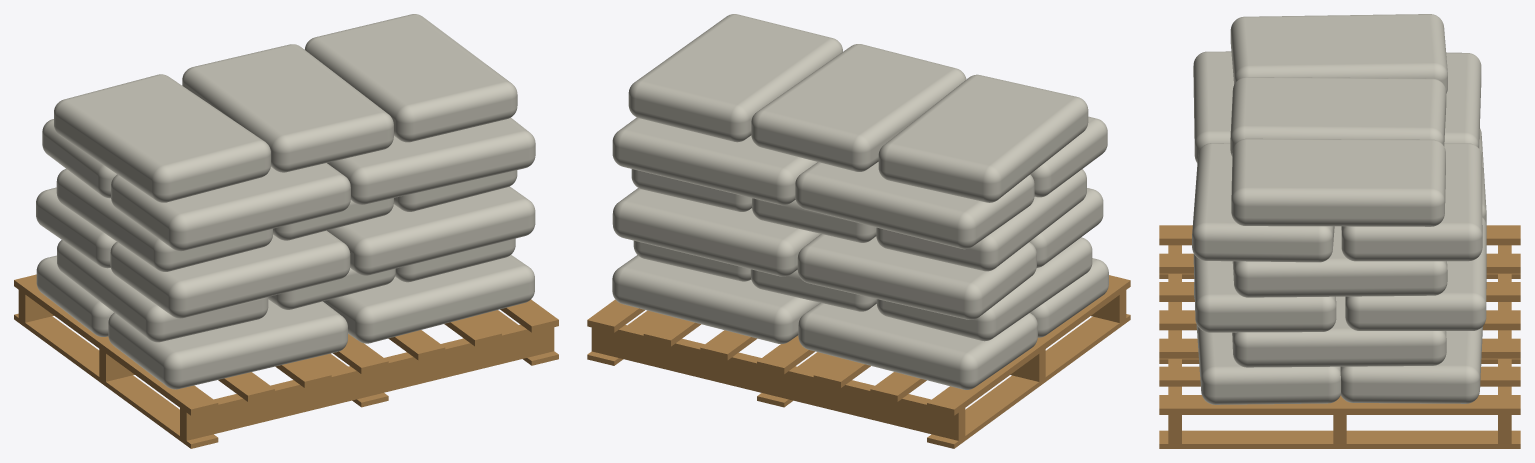
File: Pallet_of_Concrete_Bags.glb
The picture shows the model from 3 angles, left to right: view 1: azimuth 30°, elevation 25°; view 2: azimuth 150°, elevation 25°; view 3: azimuth 270°, elevation 25°; orthographic projection. The views are drawn at different scales.
Parts seen in each view (by area): view 1: stringer_0_f12740, bag_L5_2_5ca986, bag_L5_0_25bc21, bag_L5_1_8fdf5a, bottom_board_0_780c0e, bag_L4_2_2cfa50, bag_L0_0_463a1a, bag_L4_0_e7085e, bag_L2_0_02b190, bag_L2_2_80e1d7, bag_L0_2_772e6c, bag_L2_2_ba7e71 (+73 smaller); view 2: stringer_2_2b86ee, bag_L5_2_5ca986, bag_L5_1_8fdf5a, bag_L5_0_25bc21, bottom_board_0_780c0e, bag_L2_1_1d0093, bag_L4_3_ed31ea, bag_L2_3_a27cda, bag_L4_1_64cbf7, bag_L0_3_76695b, bag_L0_1, bag_L2_3_0a124f (+71 smaller); view 3: bag_L5_2_5ca986, bag_L5_1_8fdf5a, bag_L5_0_25bc21, bottom_board_2_39f5d4, bag_L5_2_f850b5, bag_L0_2, bag_L3_2_191e40, bag_L1_2_7c7ffb, deck_board_6_4a8942, bag_L5_0_ffe6f0, deck_board_6_93c49b, bag_L5_1_f71f3f (+66 smaller).
Boxes of the visible parts, box(x1,y1,x2,y2) form: stringer_0_f12740: box(186, 327, 554, 440); bag_L5_2_5ca986: box(319, 15, 502, 104); bag_L5_0_25bc21: box(68, 75, 256, 164); bag_L5_1_8fdf5a: box(197, 45, 379, 134); bottom_board_0_780c0e: box(14, 313, 217, 443); bag_L4_2_2cfa50: box(362, 131, 528, 184); bag_L0_0_463a1a: box(176, 315, 340, 369); bag_L4_0_e7085e: box(181, 175, 343, 230); bag_L2_0_02b190: box(181, 242, 343, 298); bag_L2_2_80e1d7: box(366, 199, 528, 255); bag_L0_2_772e6c: box(367, 266, 528, 323); bag_L2_2_ba7e71: box(348, 188, 520, 237); stringer_2_2b86ee: box(591, 327, 958, 440); bag_L5_2_5ca986: box(643, 15, 828, 104); bag_L5_1_8fdf5a: box(765, 45, 952, 134); bag_L5_0_25bc21: box(892, 76, 1073, 165); bottom_board_0_780c0e: box(927, 314, 1130, 443); bag_L2_1_1d0093: box(805, 246, 969, 300); bag_L4_3_ed31ea: box(619, 129, 782, 185); bag_L2_3_a27cda: box(619, 201, 782, 256); bag_L4_1_64cbf7: box(802, 172, 963, 228); bag_L0_3_76695b: box(619, 267, 780, 323); bag_L0_1: box(805, 313, 966, 369); bag_L2_3_0a124f: box(627, 189, 797, 238); bag_L5_2_5ca986: box(1245, 140, 1431, 188); bag_L5_1_8fdf5a: box(1244, 78, 1431, 127); bag_L5_0_25bc21: box(1245, 15, 1433, 65); bottom_board_2_39f5d4: box(1159, 430, 1520, 443); bag_L5_2_f850b5: box(1245, 187, 1430, 207); bag_L0_2: box(1213, 332, 1340, 395); bag_L3_2_191e40: box(1248, 258, 1433, 277); bag_L1_2_7c7ffb: box(1247, 328, 1432, 347); deck_board_6_4a8942: box(1159, 395, 1520, 408); bag_L5_0_ffe6f0: box(1249, 63, 1434, 78); deck_board_6_93c49b: box(1159, 408, 1520, 414); bag_L5_1_f71f3f: box(1244, 125, 1429, 139).
Size of the model in its own units: 1.23 by 0.79 by 1.02.
